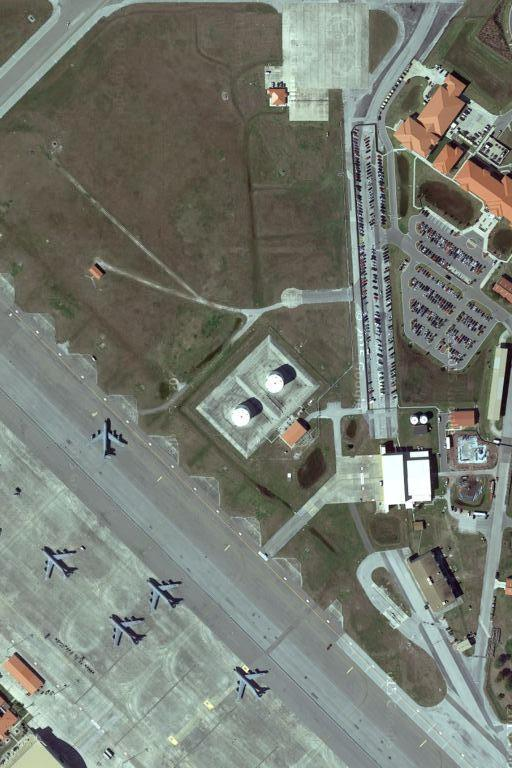KC-135: (85, 415, 129, 463), (38, 543, 80, 587), (229, 664, 272, 706), (143, 575, 189, 614), (106, 613, 148, 652)
